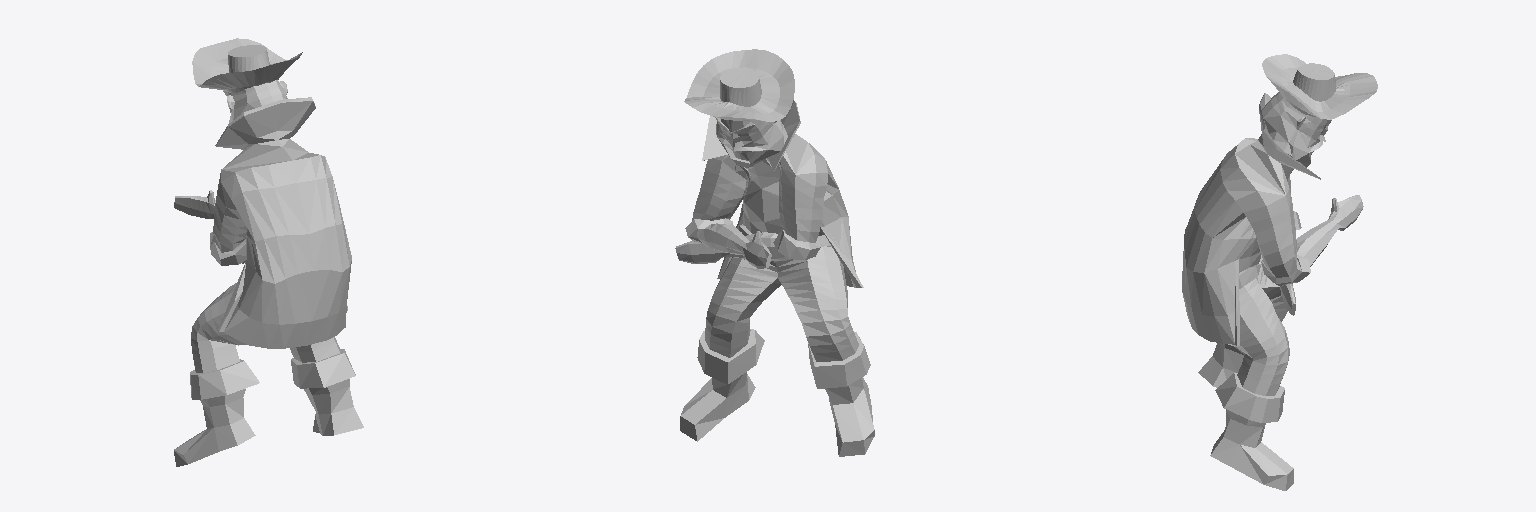
Rendered from pirata_000334.obj.
3 renders of one model, left to right at view 1: azimuth 30°, elevation 25°; view 2: azimuth 150°, elevation 25°; view 3: azimuth 270°, elevation 25°, orthographic.
Visible parts, largest first — view 1: Pirata_PirataH; view 2: Pirata_PirataH; view 3: Pirata_PirataH.
Boxes of the visible parts, x1,y1,x2,y2 form: Pirata_PirataH: [174, 38, 363, 466]; Pirata_PirataH: [675, 49, 874, 456]; Pirata_PirataH: [1182, 54, 1377, 490].
Size of the model in its own units: 4.42 by 9.25 by 4.19.